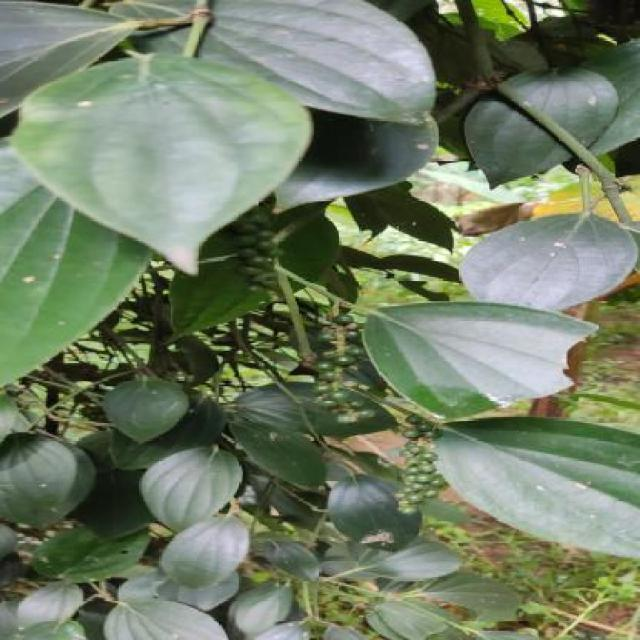UNRIPE: (393, 416, 445, 513), (318, 315, 364, 423), (235, 205, 282, 286)
